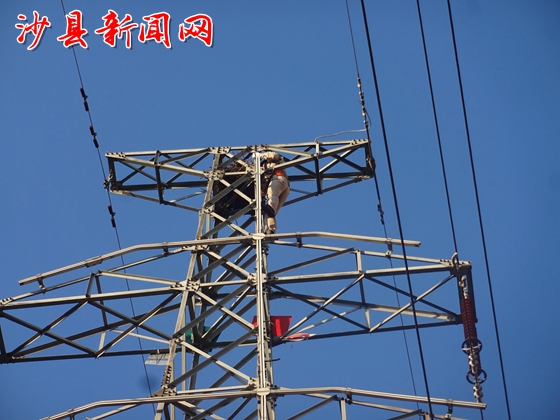bird-nest: (207, 166, 262, 213)
